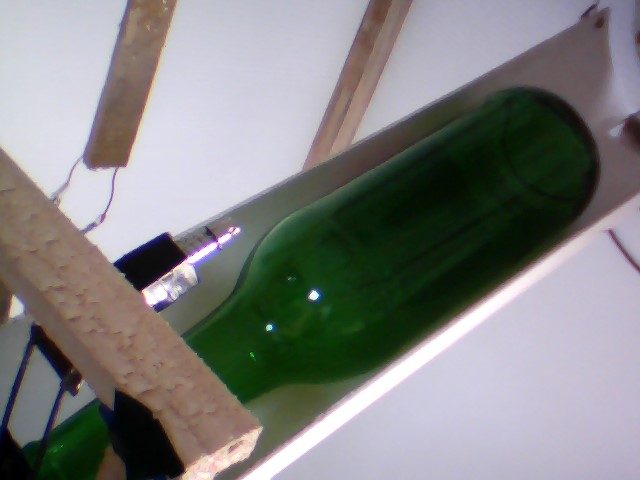vidrio: (171, 80, 607, 410)
